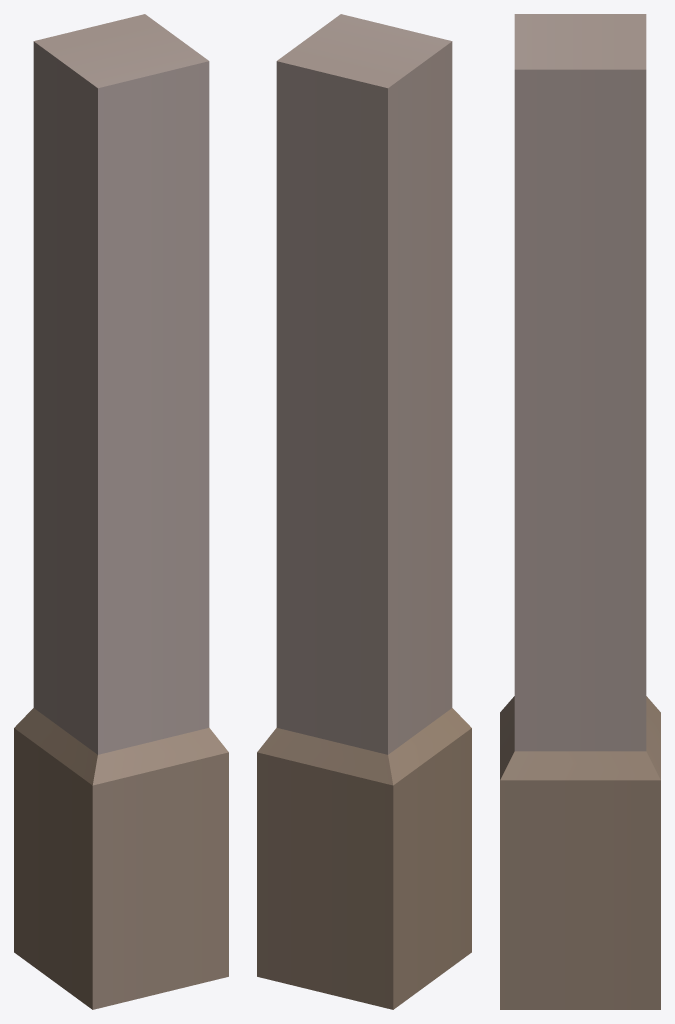
The model's file is B01_Corner_wall_2.fbx.
The picture shows the model from 3 angles, left to right: view 1: azimuth 30°, elevation 25°; view 2: azimuth 150°, elevation 25°; view 3: azimuth 270°, elevation 25°; orthographic projection. The views are drawn at different scales.
Parts seen in each view (by area): view 1: B01_Corner_wall_2; view 2: B01_Corner_wall_2; view 3: B01_Corner_wall_2.
Part boxes in pixels (x1,y1,x2,y2): B01_Corner_wall_2: (14, 14, 228, 1009); B01_Corner_wall_2: (257, 14, 471, 1009); B01_Corner_wall_2: (500, 14, 660, 1009).
Bounding box in the file's own units: 47.6 × 305 × 47.6.
